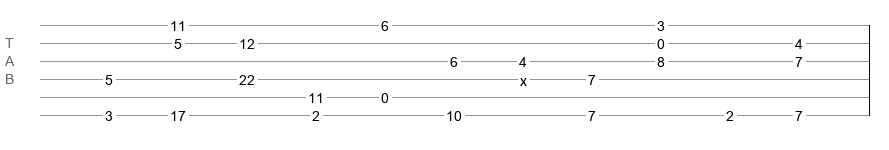0: (381, 90, 389, 100), (657, 36, 665, 46)
10: (446, 108, 462, 118)
11: (170, 18, 186, 28), (308, 90, 324, 100)
12: (239, 36, 255, 46)
17: (170, 108, 186, 118)
2: (312, 108, 320, 118), (726, 108, 734, 118)
22: (239, 72, 255, 82)
3: (105, 108, 113, 118), (657, 18, 665, 28)
4: (519, 54, 527, 64), (795, 36, 803, 46)
5: (105, 72, 113, 82), (174, 36, 182, 46)
6: (381, 18, 389, 28), (450, 54, 458, 64)
7: (588, 108, 596, 118), (588, 72, 596, 82), (795, 108, 803, 118), (795, 54, 803, 64)
8: (657, 54, 665, 64)
x: (520, 73, 527, 81)
